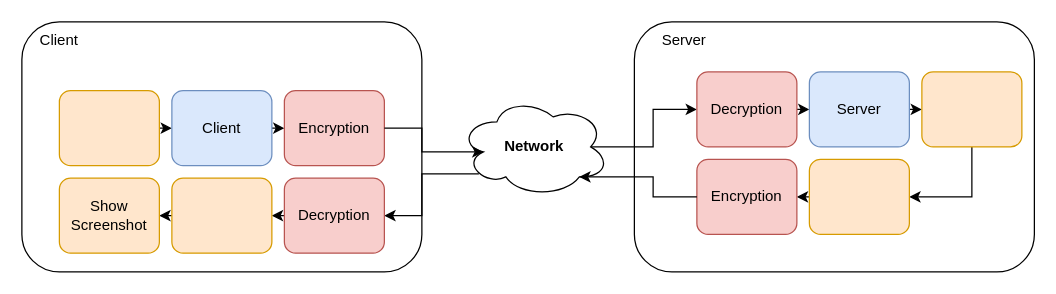
Image size: 1056x294. Some labels were removed from this diagram. The box of each missing label's shape, as (x1, y1, x2, y2) in pixels:
Convert From Bytes: (171, 177, 272, 253)
Convert To Bytes: (808, 158, 909, 234)
GUI: (58, 89, 159, 166)
Take Screenshot: (921, 71, 1022, 147)
